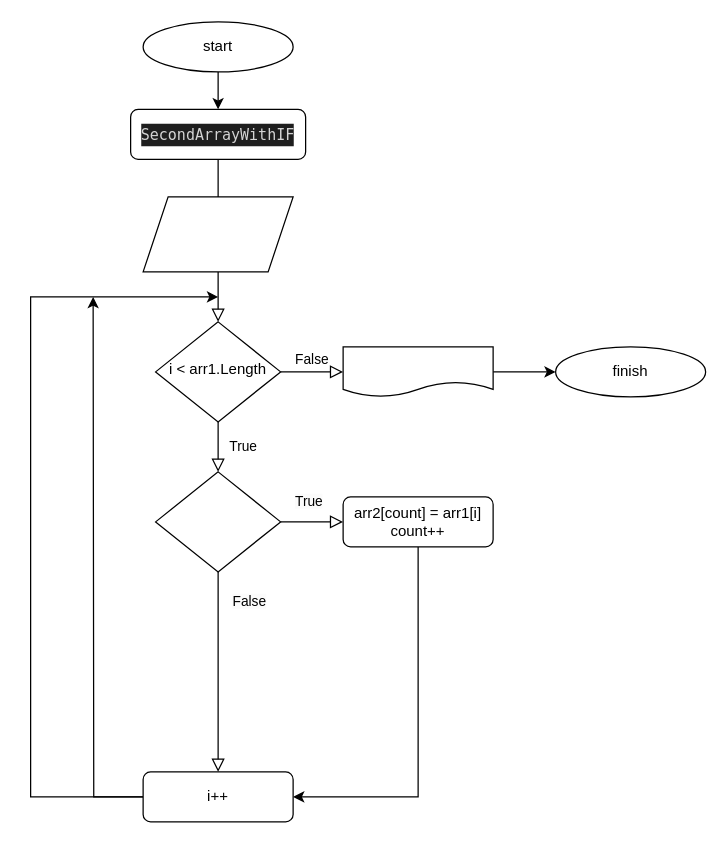
This 728x844 diagram has some shape labels left out. The shapes that lost their labels are listed below. From the top down, each one's centre as x and y in pixels, then its label:
the point at 217,234: string[] arr1 string[] arr2 int count = 0 int i = 0
the point at 417,371: PrintArray arr2
the point at 217,521: arr1[i].Length<=3
